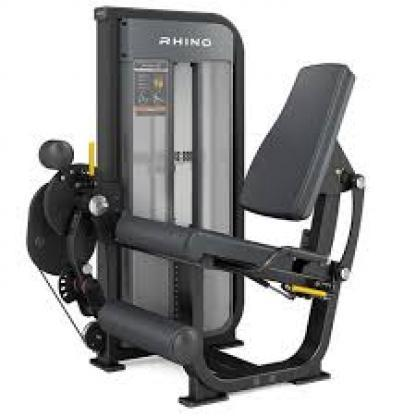leg extension: (27, 6, 367, 408)
